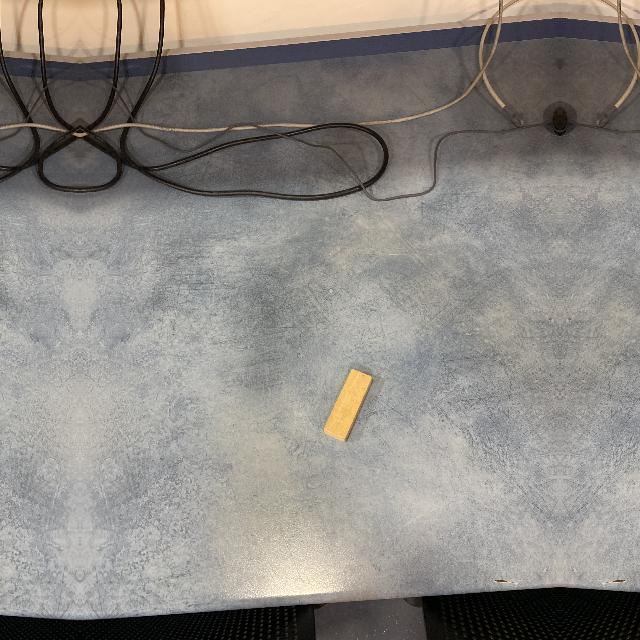jenga: (323, 369, 373, 442)
